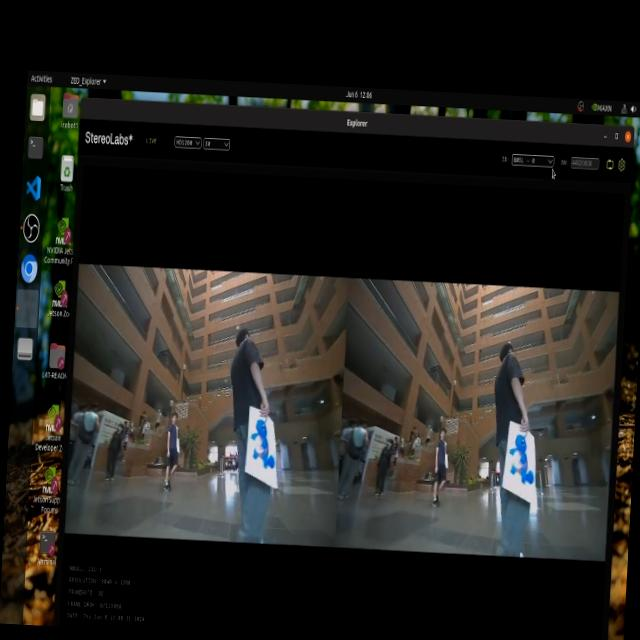blue: (239, 416, 278, 480), (504, 436, 535, 492)
